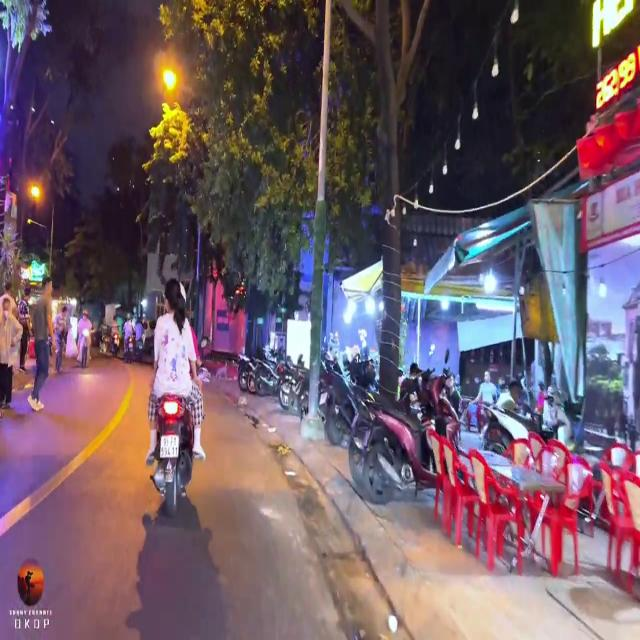bien_trang: (160, 437, 180, 458)
